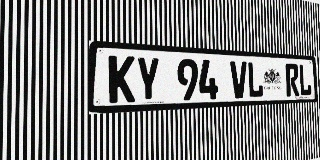4: (198, 59, 218, 100)
9: (177, 58, 198, 100)
K: (109, 55, 135, 103)
L: (247, 62, 263, 98), (299, 64, 312, 96)
R: (285, 63, 299, 96)
V: (230, 61, 248, 98)
Y: (136, 56, 160, 102)
